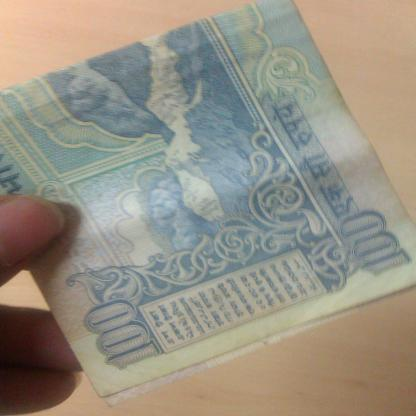Old100Back: (0, 0, 416, 409)
